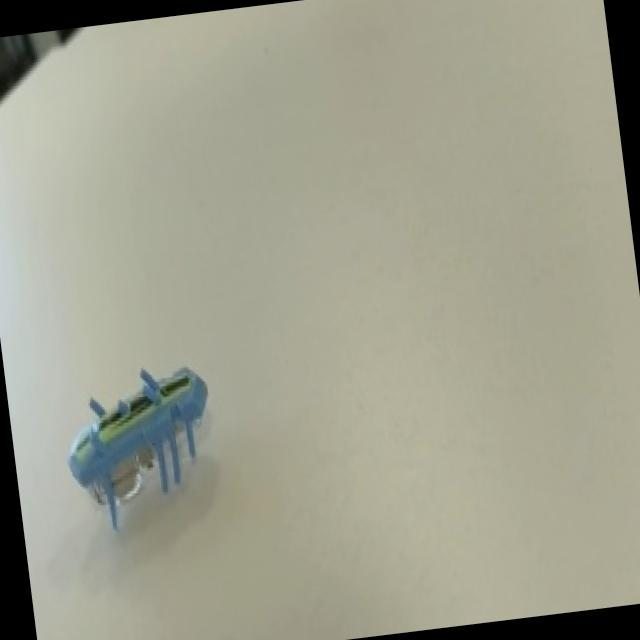3_NanoBug_Celeste: (12, 322, 254, 572)
